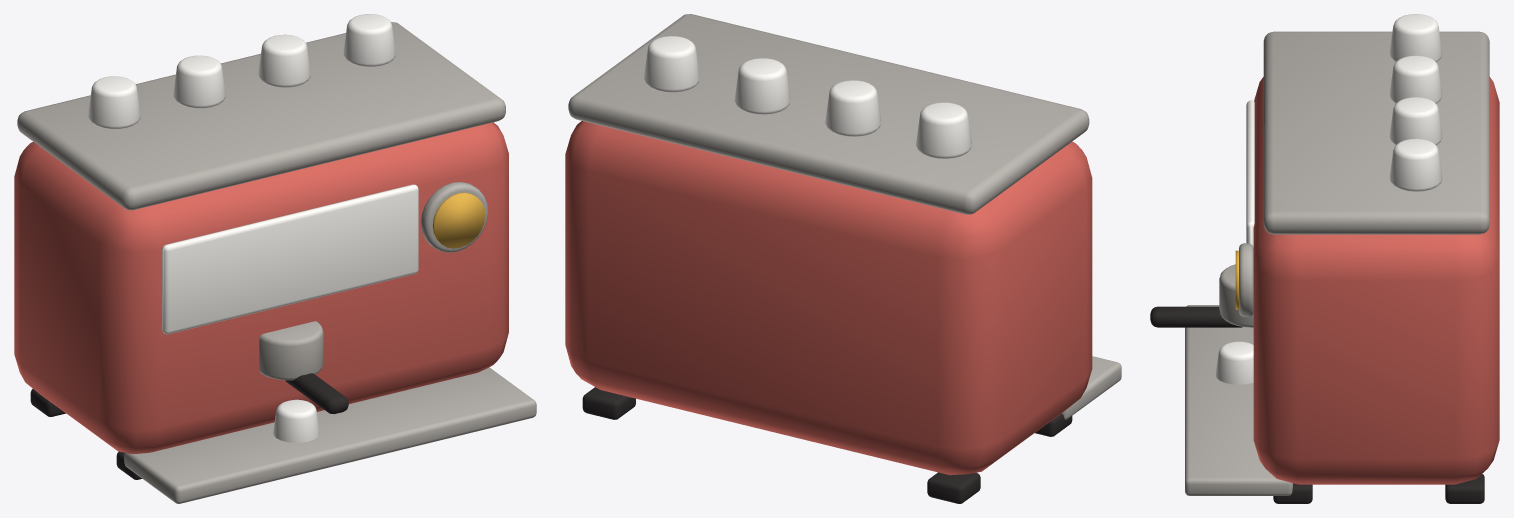
The model's file is machine_neuve.glb.
The picture shows the model from 3 angles, left to right: view 1: azimuth 30°, elevation 25°; view 2: azimuth 150°, elevation 25°; view 3: azimuth 270°, elevation 25°; orthographic projection. The views are drawn at different scales.
Visible parts, largest first — view 1: carrosserie, toit, facade, egouttoir, groupe0, tasse_toit1, tasse_toit2, tasse_toit0, tasse_toit3, cadran, tasse0, manometre (+1 smaller); view 2: carrosserie, toit, tasse_toit0, tasse_toit1, tasse_toit2, tasse_toit3, egouttoir, pied1, pied0; view 3: carrosserie, toit, egouttoir, tasse_toit3, tasse_toit1, tasse_toit0, tasse_toit2, porte_filtre0, tasse0, facade, groupe0, manometre (+2 smaller).
Boxes of the visible parts, x1=… form: carrosserie: x1=14, y1=122, x2=508, y2=453; toit: x1=17, y1=22, x2=505, y2=210; facade: x1=162, y1=184, x2=418, y2=334; egouttoir: x1=124, y1=367, x2=536, y2=503; groupe0: x1=259, y1=321, x2=323, y2=380; tasse_toit1: x1=173, y1=55, x2=225, y2=108; tasse_toit2: x1=258, y1=34, x2=310, y2=87; tasse_toit0: x1=88, y1=76, x2=140, y2=129; tasse_toit3: x1=343, y1=14, x2=395, y2=66; cadran: x1=432, y1=192, x2=485, y2=248; tasse0: x1=273, y1=399, x2=319, y2=442; manometre: x1=420, y1=182, x2=488, y2=252; carrosserie: x1=565, y1=121, x2=1092, y2=475; toit: x1=568, y1=14, x2=1089, y2=214; tasse_toit0: x1=916, y1=102, x2=971, y2=158; tasse_toit1: x1=825, y1=80, x2=881, y2=136; tasse_toit2: x1=734, y1=58, x2=790, y2=114; tasse_toit3: x1=644, y1=36, x2=699, y2=92; egouttoir: x1=1062, y1=356, x2=1121, y2=419; pied1: x1=927, y1=472, x2=980, y2=503; pied0: x1=582, y1=387, x2=635, y2=419; carrosserie: x1=1253, y1=77, x2=1499, y2=484; toit: x1=1263, y1=31, x2=1489, y2=234; egouttoir: x1=1185, y1=305, x2=1292, y2=495; tasse_toit3: x1=1389, y1=138, x2=1442, y2=191; tasse_toit1: x1=1389, y1=55, x2=1442, y2=103; tasse_toit0: x1=1389, y1=14, x2=1442, y2=62; tasse_toit2: x1=1389, y1=97, x2=1442, y2=145; porte_filtre0: x1=1150, y1=306, x2=1242, y2=327; tasse0: x1=1215, y1=341, x2=1253, y2=384; facade: x1=1246, y1=100, x2=1254, y2=247; groupe0: x1=1219, y1=264, x2=1253, y2=327; manometre: x1=1239, y1=243, x2=1253, y2=316.
Size of the model in its own units: 0.95 by 0.75 by 0.71.
